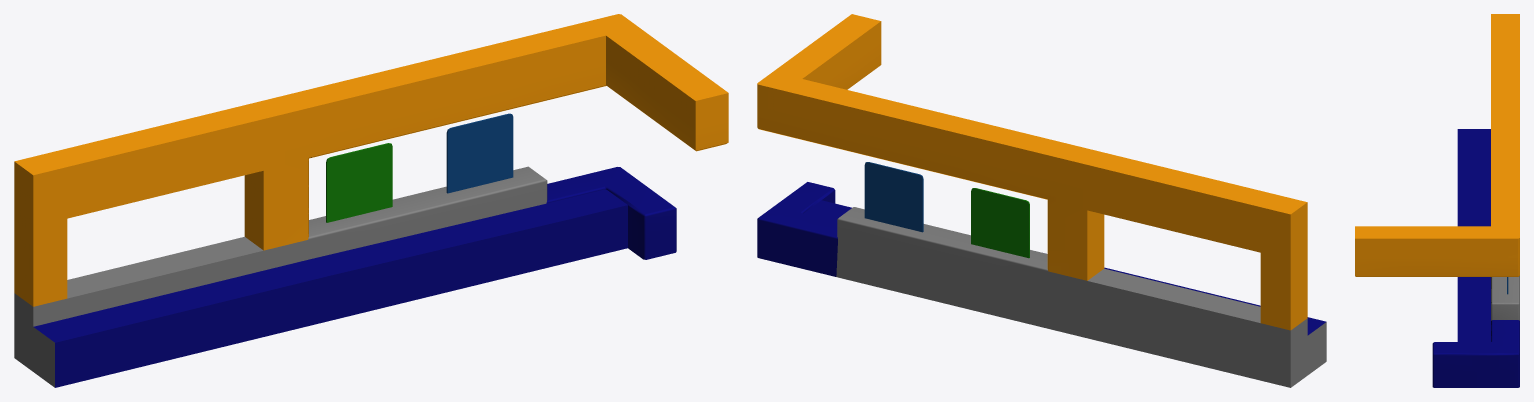
Rendered from recepción.fbx.
The picture shows the model from 3 angles, left to right: view 1: azimuth 30°, elevation 25°; view 2: azimuth 150°, elevation 25°; view 3: azimuth 270°, elevation 25°; orthographic projection. The views are drawn at different scales.
Parts seen in each view (by area): view 1: Recepción; view 2: Recepción; view 3: Recepción.
Boxes of the visible parts, x1=… form: Recepción: x1=14, y1=14, x2=728, y2=387; Recepción: x1=757, y1=14, x2=1326, y2=387; Recepción: x1=1355, y1=14, x2=1519, y2=387.
Bounding box in the file's own units: 433 × 134 × 134.
